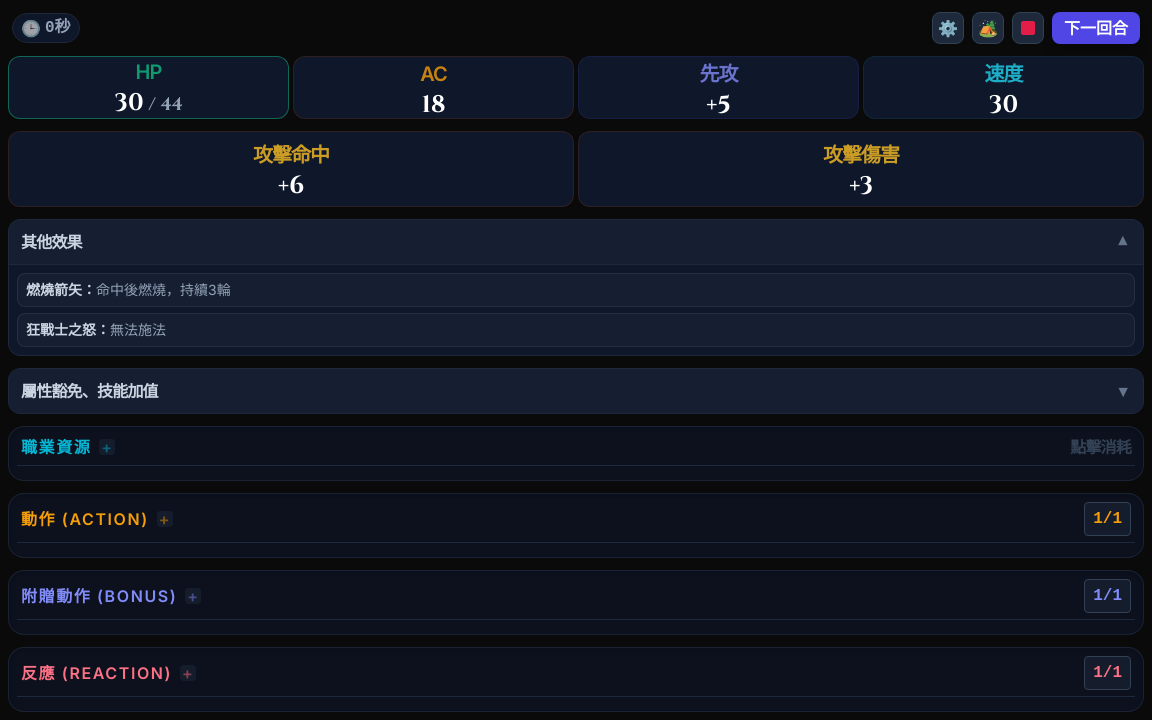
Test: CombatView - 其他效果獨立可收合區塊 › 加值表標題改回「屬性豁免、技能加值」，展開後內部不再重複顯示其他效果
Step 1. Click the text "屬性豁免、技能加值" → click(89, 391), box [21,379,158,403]
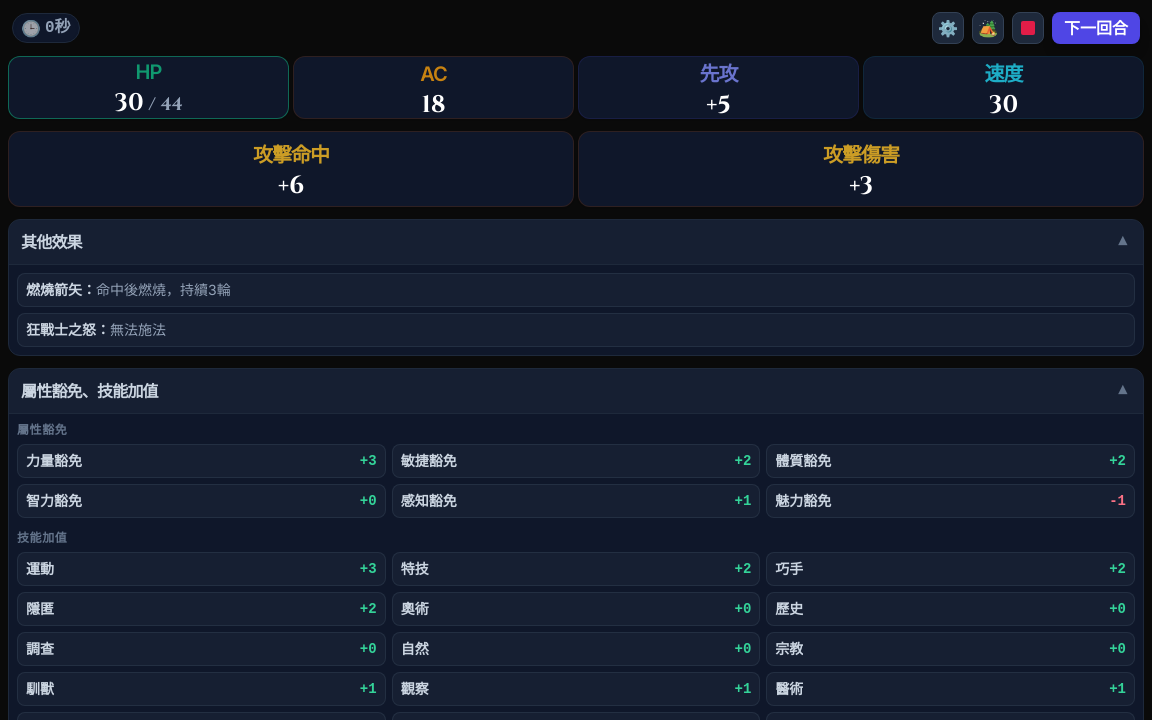
expect the text "其他效果" is shown once: met, box [21,230,82,254]
expect the text "力量豁免" is shown: met, box [26,451,82,471]
